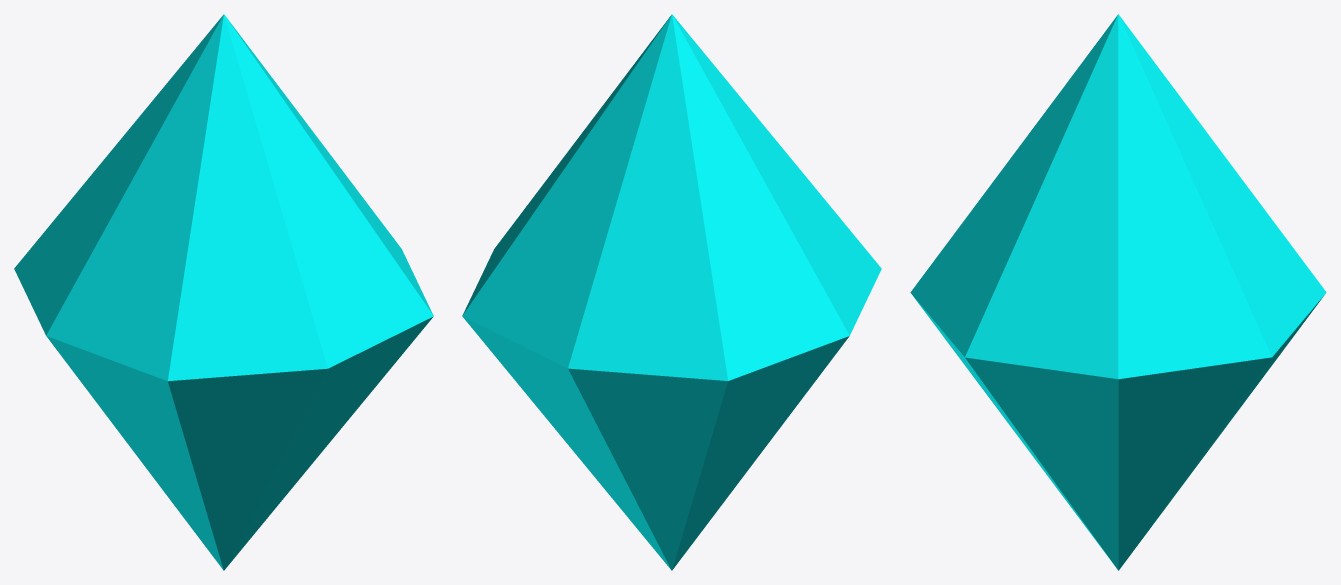
The model's file is Diamondo (1).fbx.
3 views of the same model, side by side, from view 1: azimuth 30°, elevation 25°; view 2: azimuth 150°, elevation 25°; view 3: azimuth 270°, elevation 25° (orthographic).
Visible parts, largest first — view 1: Diamondo__1_; view 2: Diamondo__1_; view 3: Diamondo__1_.
Part boxes in pixels (x1,y1,x2,y2): Diamondo__1_: (14,14,433,570); Diamondo__1_: (462,14,881,570); Diamondo__1_: (910,14,1326,570).
Size of the model in its own units: 214 by 320 by 217.
